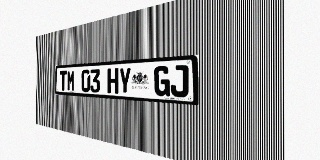0: (81, 69, 90, 92)
3: (90, 69, 100, 93)
G: (154, 65, 170, 96)
H: (107, 68, 118, 94)
J: (171, 65, 188, 97)
M: (67, 70, 75, 91)
T: (60, 70, 67, 91)
Y: (119, 67, 131, 94)
